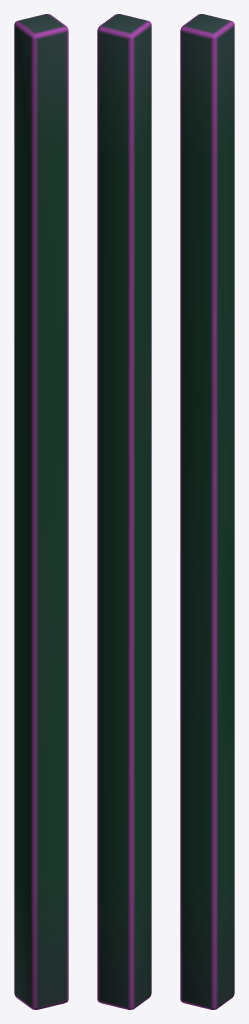
The model's file is square_pillar_02.fbx.
3 views of the same model, side by side, from view 1: azimuth 30°, elevation 25°; view 2: azimuth 150°, elevation 25°; view 3: azimuth 330°, elevation 25° (orthographic).
Parts seen in each view (by area): view 1: square_pillar_02; view 2: square_pillar_02; view 3: square_pillar_02.
Part boxes in pixels (x1,y1,x2,y2): square_pillar_02: (14, 14, 68, 1009); square_pillar_02: (97, 14, 151, 1009); square_pillar_02: (180, 14, 234, 1009).
Bounding box in the file's own units: 0.04 × 1 × 0.04.
